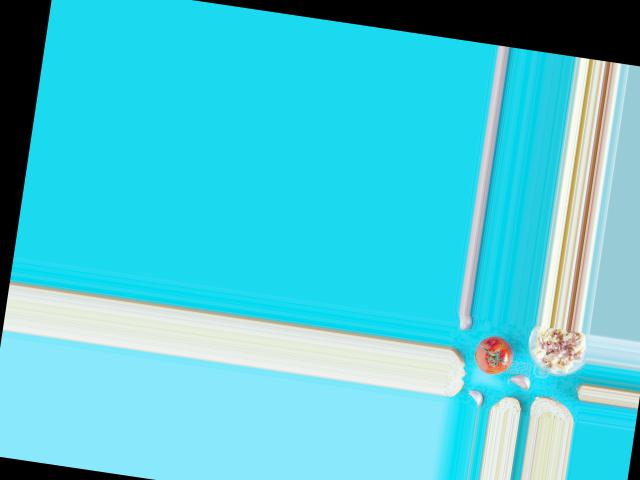tomato: (472, 333, 513, 376)
